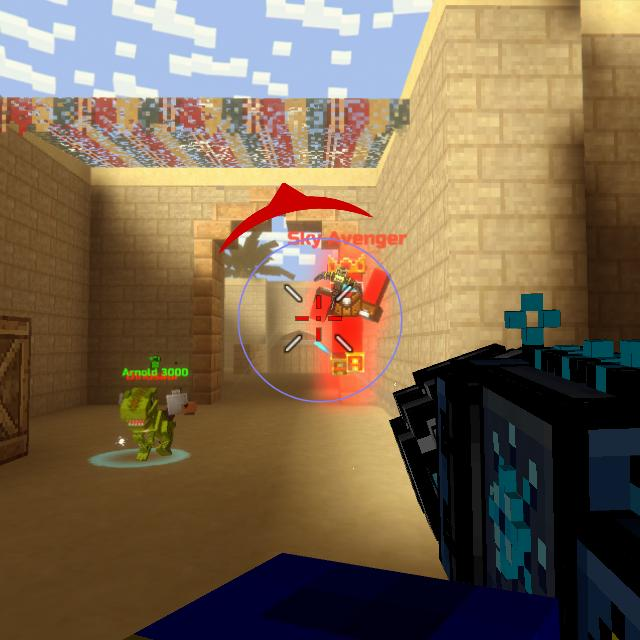Enemy: (309, 261, 391, 376)
